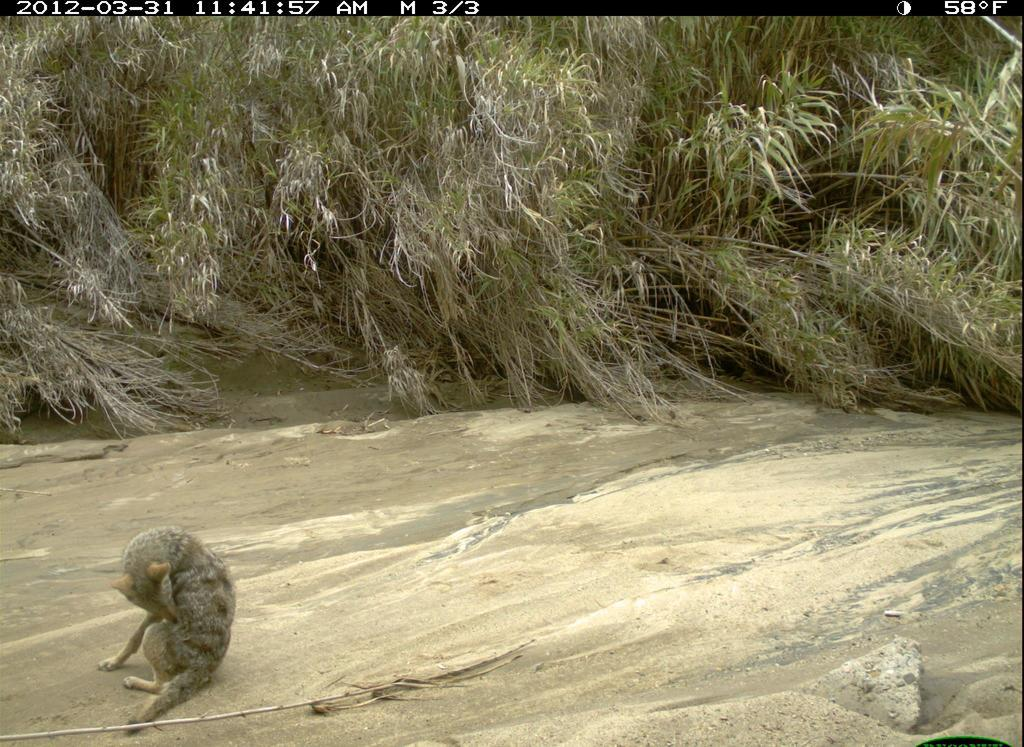coyote: (88, 521, 246, 742)
